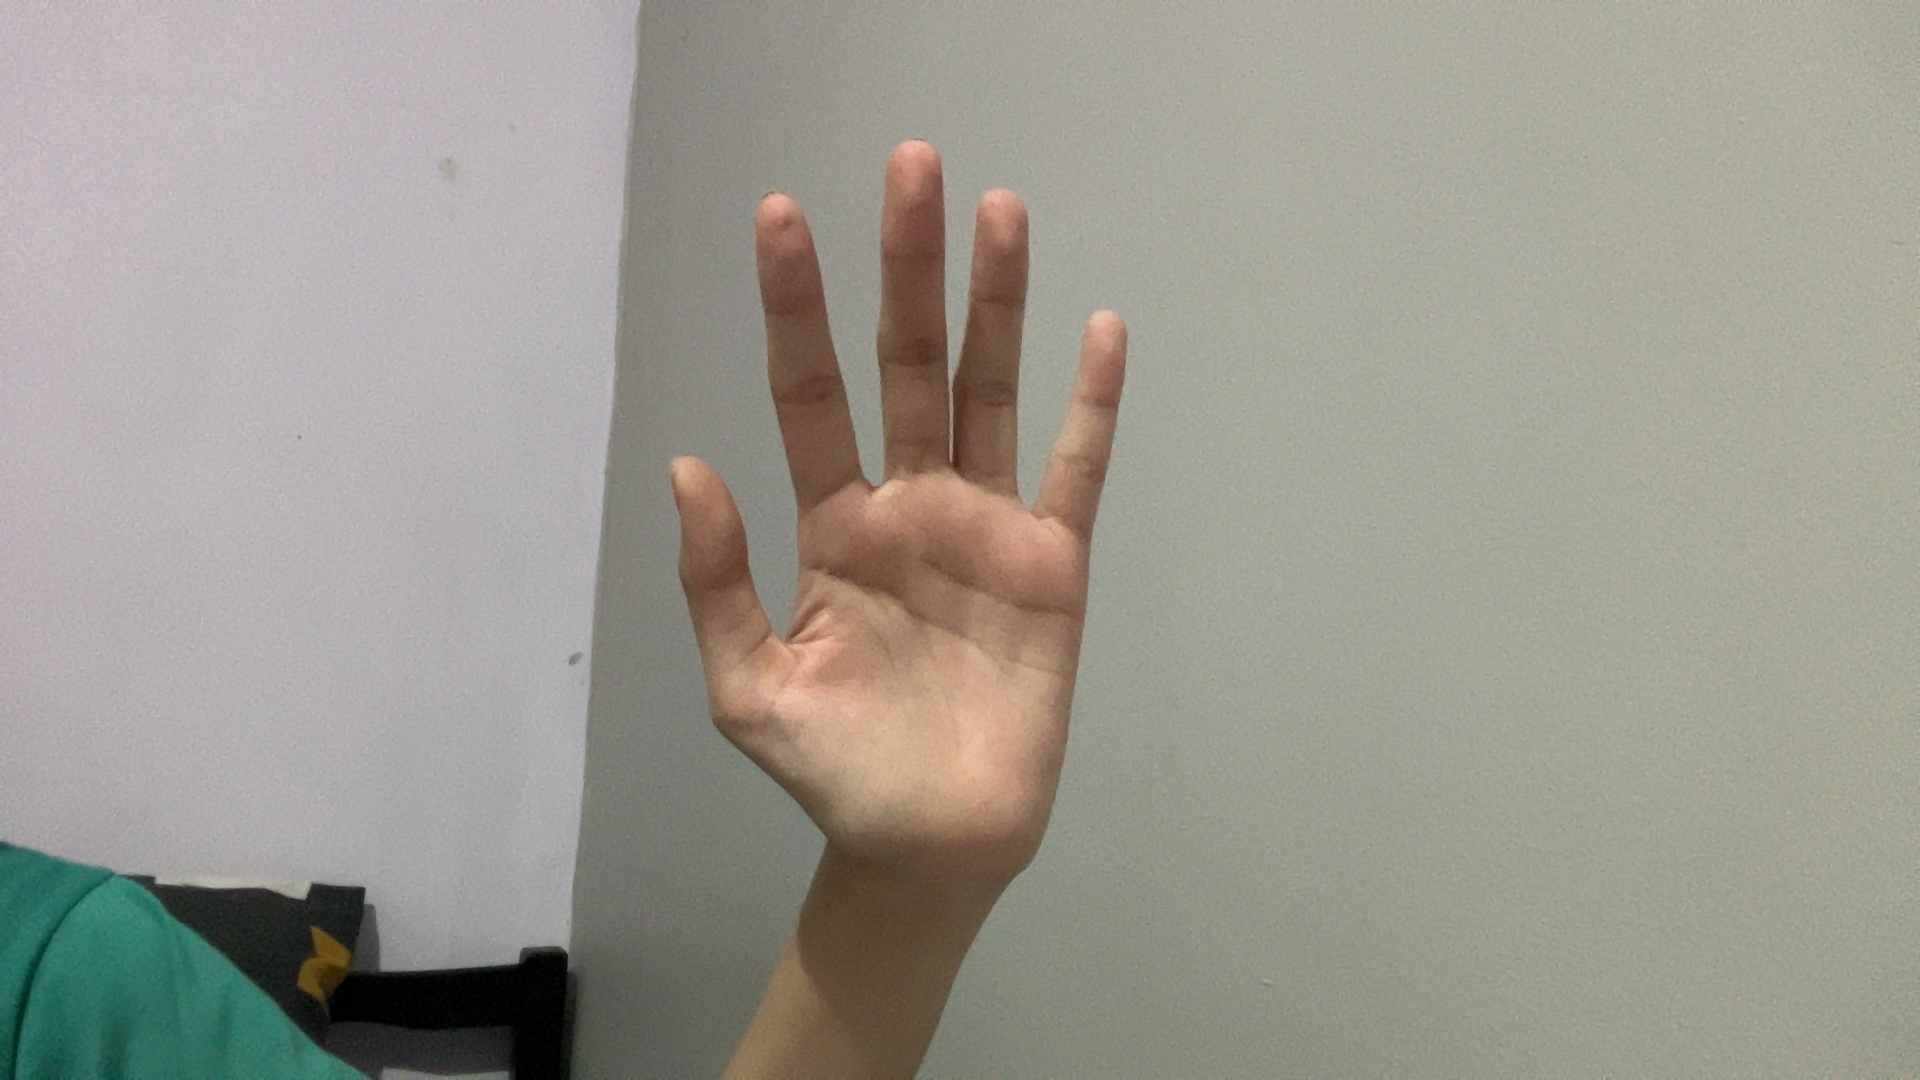Hello: (440, 120, 1340, 959)
